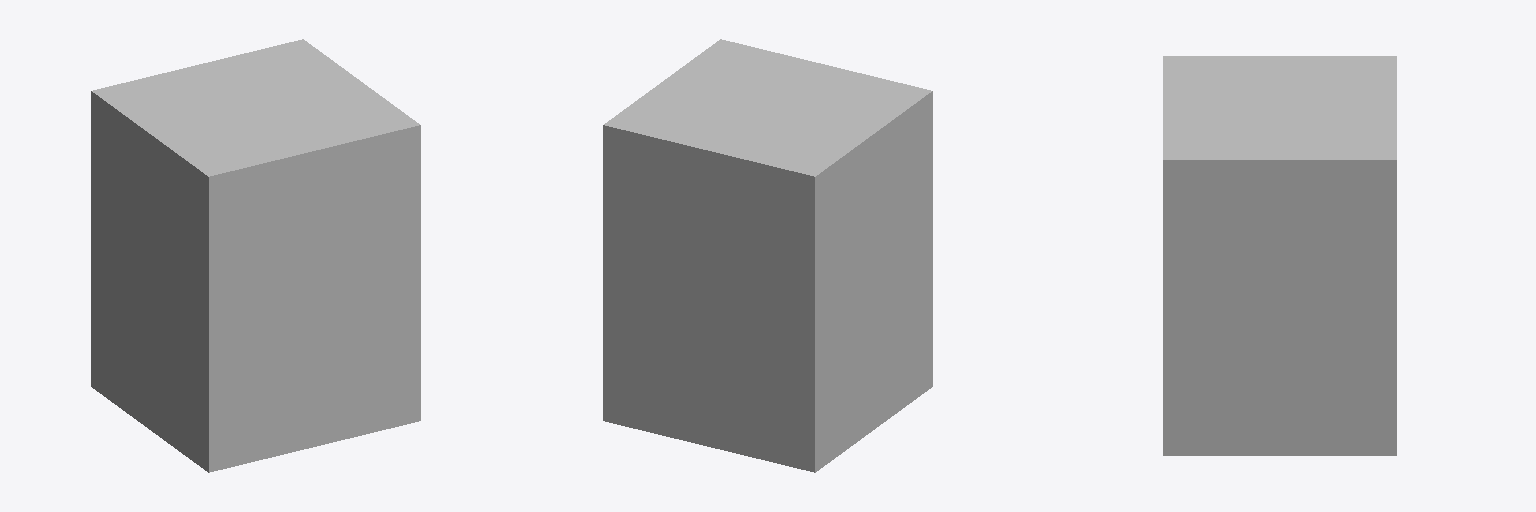
Rendered from caja carton limpia-2-caja.obj.
The picture shows the model from 3 angles: view 1: azimuth 30°, elevation 25°; view 2: azimuth 150°, elevation 25°; view 3: azimuth 270°, elevation 25°; orthographic projection.
Parts seen in each view (by area): view 1: caja; view 2: caja; view 3: caja.
Boxes of the visible parts, <box> form: caja: <box>91,39,420,472</box>; caja: <box>603,39,932,472</box>; caja: <box>1163,56,1396,455</box>.
Bounding box in the file's own units: 4.8 × 6.4 × 4.6.